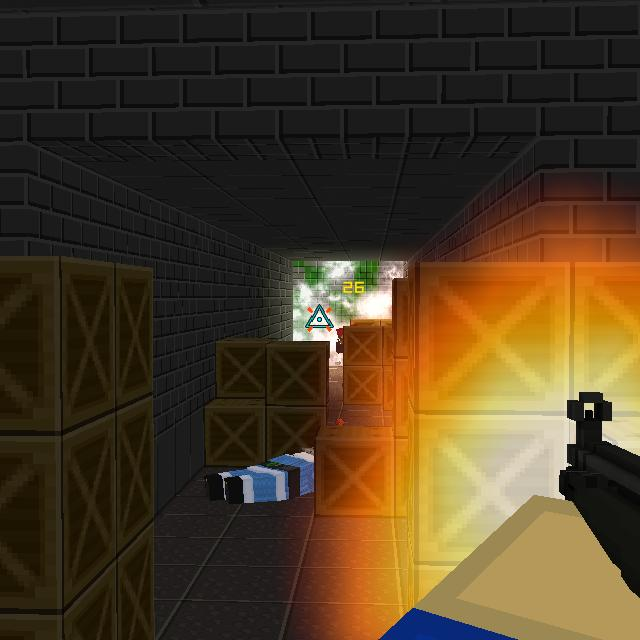enemy: (334, 323, 360, 354)
